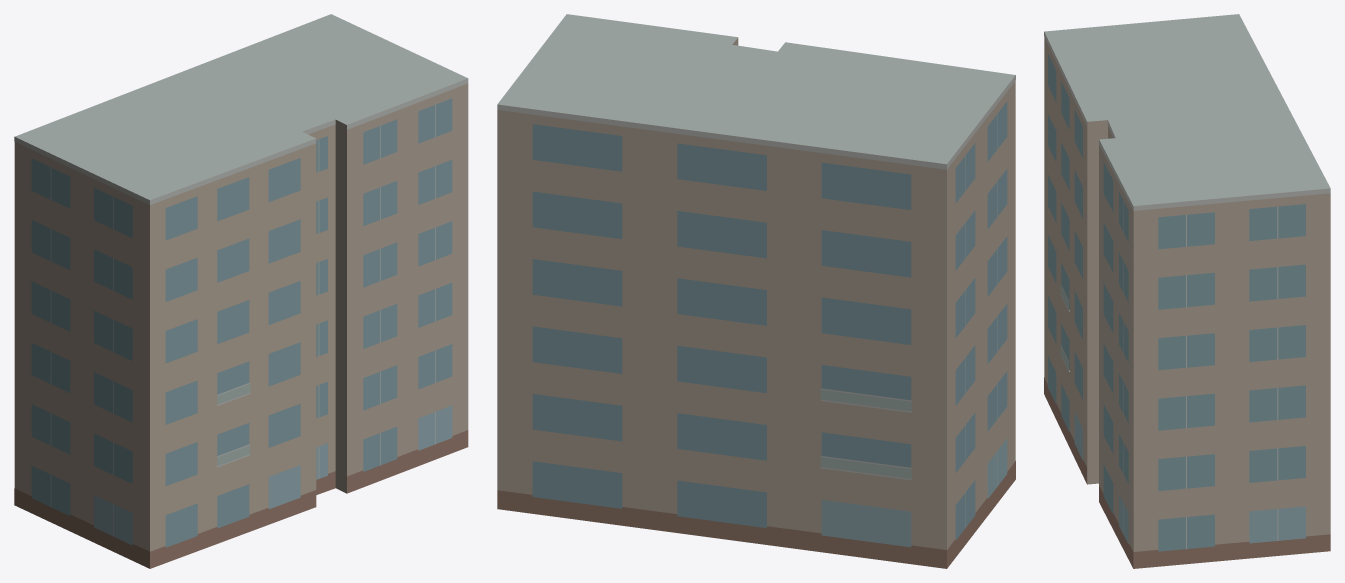
Rendered from survey-upis-32697675.glb.
The picture shows the model from 3 angles, left to right: view 1: azimuth 30°, elevation 25°; view 2: azimuth 150°, elevation 25°; view 3: azimuth 270°, elevation 25°; orthographic projection. The views are drawn at different scales.
Visible parts, largest first — view 1: survey-upis-32697675.tmp; view 2: survey-upis-32697675.tmp; view 3: survey-upis-32697675.tmp.
Part boxes in pixels (box(x1,y1,x2,y2)): survey-upis-32697675.tmp: box(14, 14, 468, 568); survey-upis-32697675.tmp: box(497, 14, 1015, 568); survey-upis-32697675.tmp: box(1044, 14, 1330, 568).
Size of the model in its own units: 20.8 by 18.3 by 13.11.
